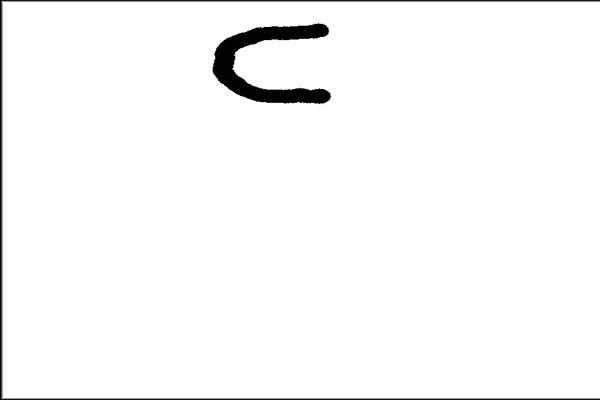C: (208, 16, 337, 111)
